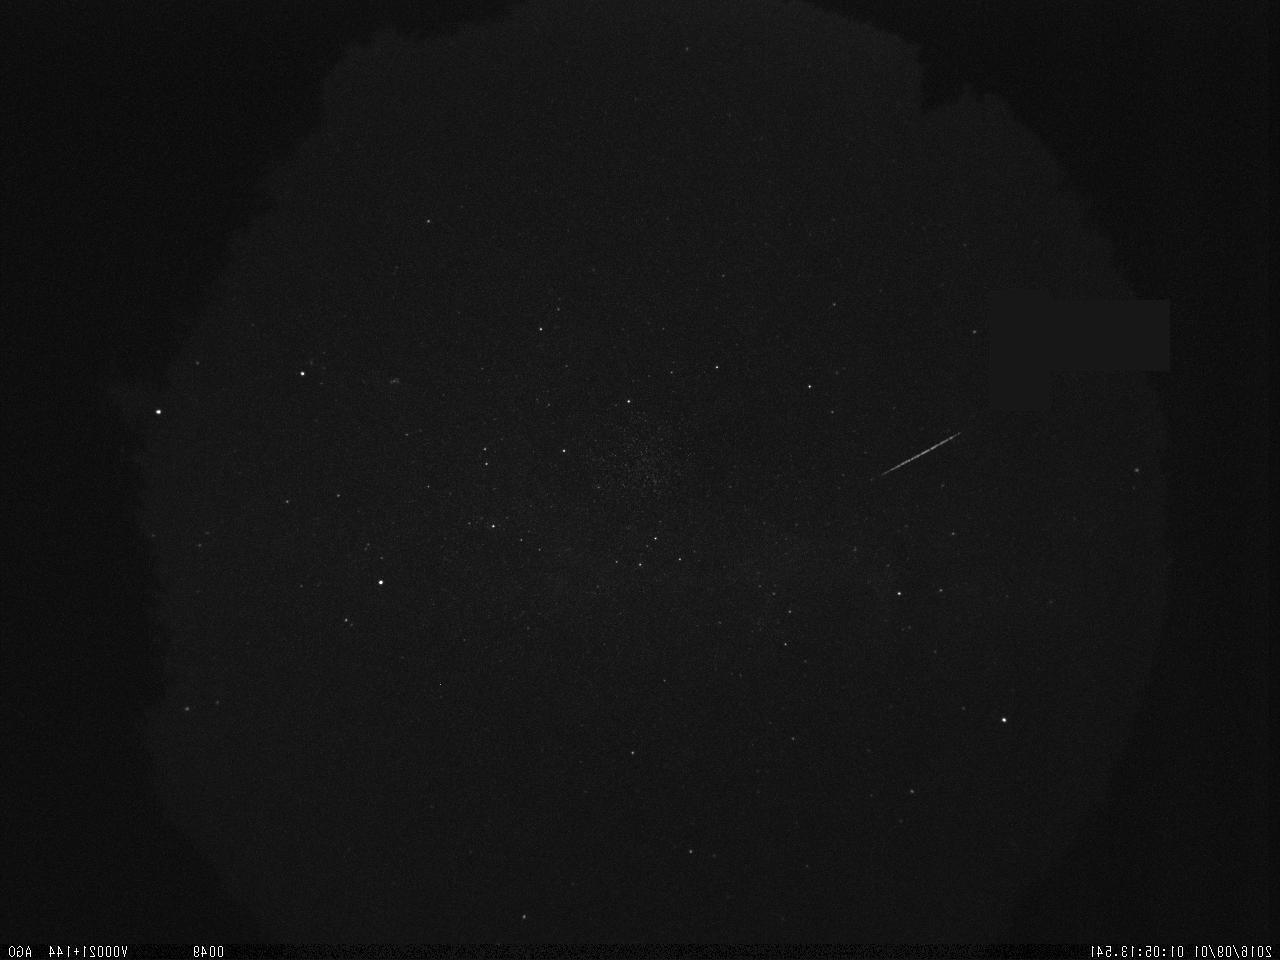meteor: (849, 425, 980, 489)
